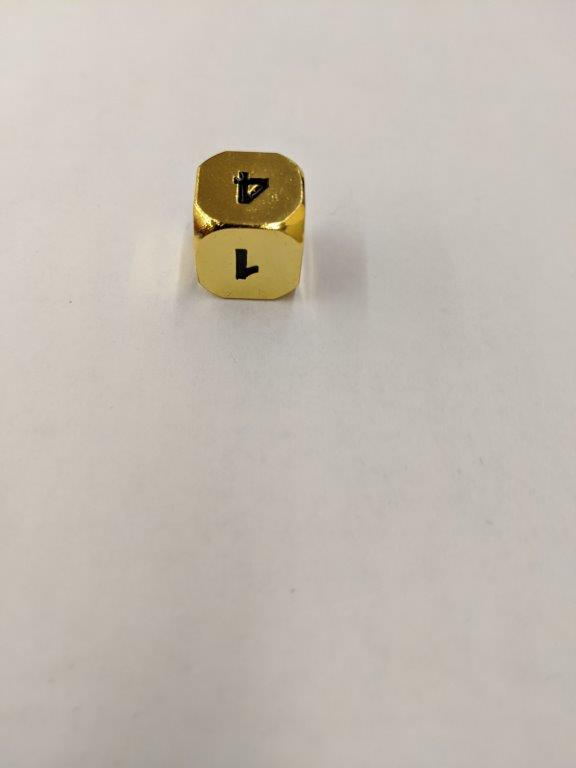d6-4: (192, 149, 309, 310)
